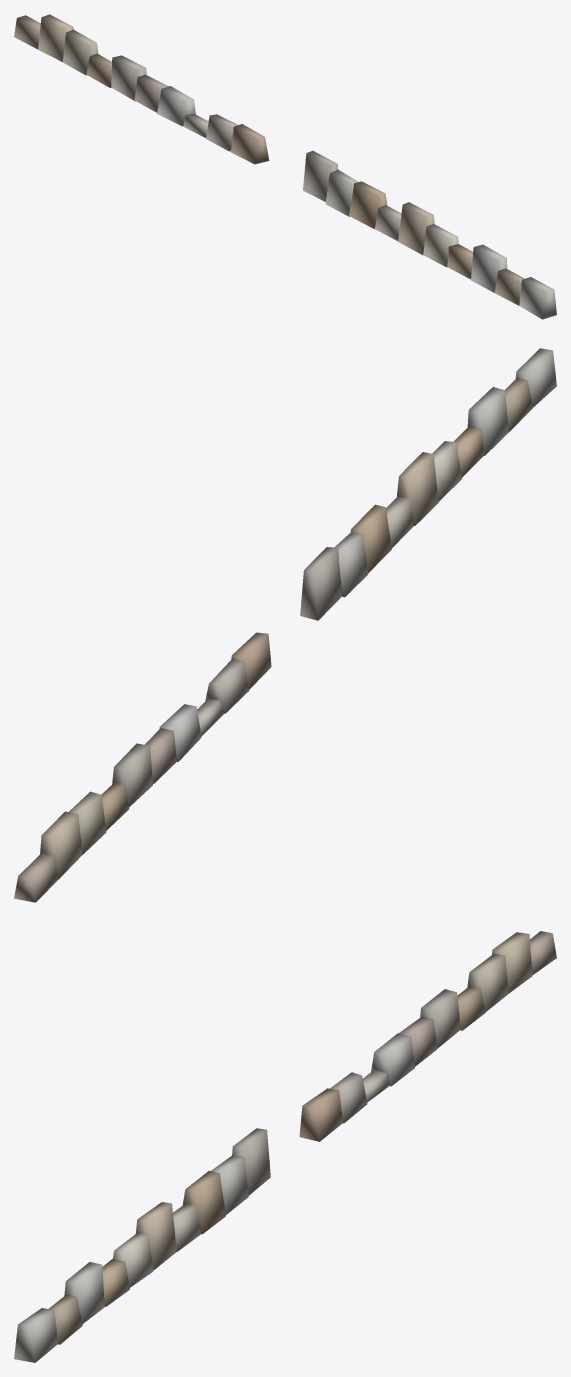
The model's file is farm_32_28_far.glb.
3 renders of one model, top to bottom at view 1: azimuth 30°, elevation 25°; view 2: azimuth 150°, elevation 25°; view 3: azimuth 330°, elevation 25°, orthographic. The views are drawn at different scales.
Visible parts, largest first — view 1: geometry_0; view 2: geometry_0; view 3: geometry_0.
Part boxes in pixels (left/top/right/bottom): geometry_0: left=14, top=14, right=556, bottom=319; geometry_0: left=14, top=348, right=556, bottom=902; geometry_0: left=14, top=931, right=556, bottom=1362.
Bounding box in the file's own units: 3.34 × 2.93 × 34.43.
